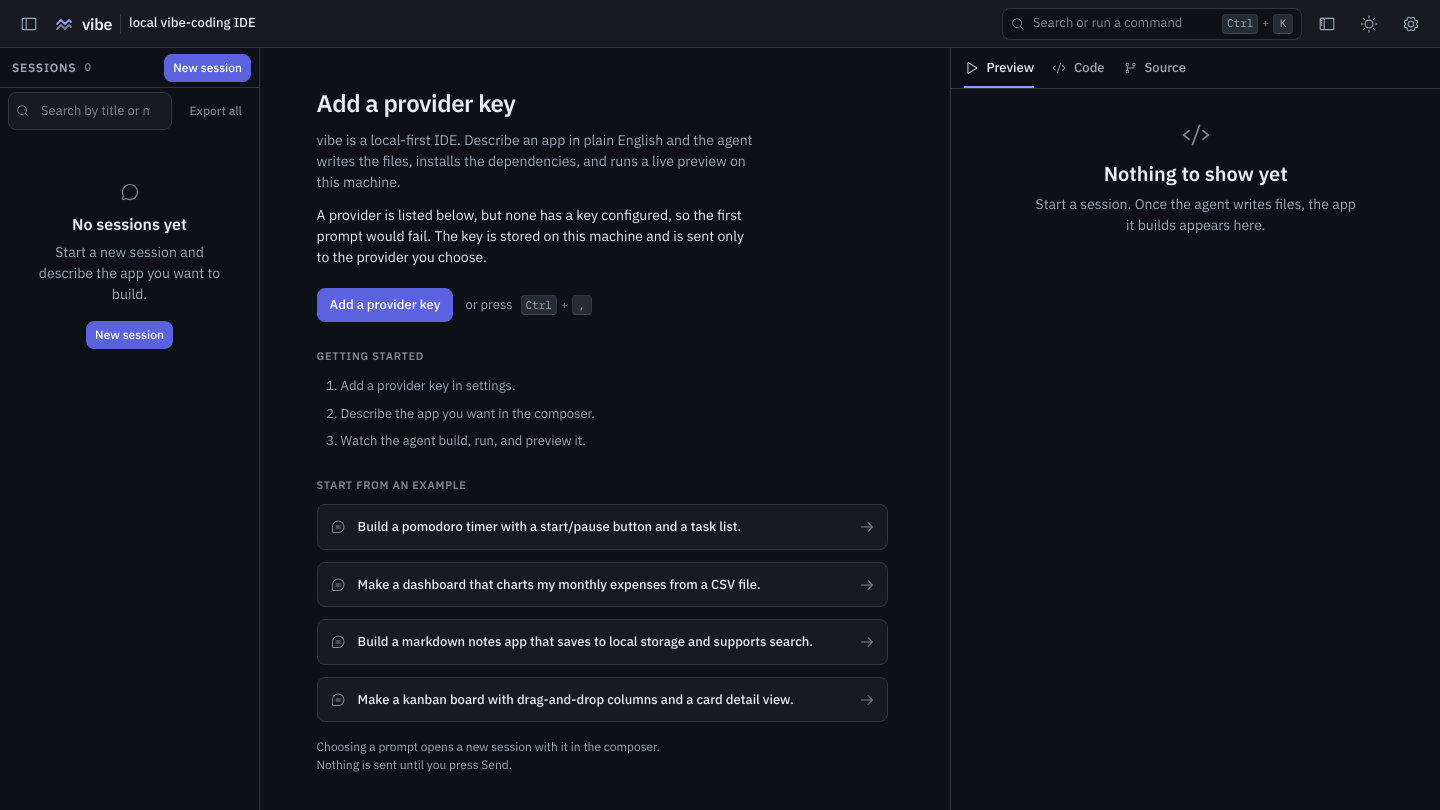
Test: the app first run › replaces the empty chat, then fills the composer when an example is clicked
Expected: the heading "Add a provider key" is shown, [317, 87, 516, 119]
Click the button "pomodoro".
click(602, 527)  # box [317, 504, 888, 550]
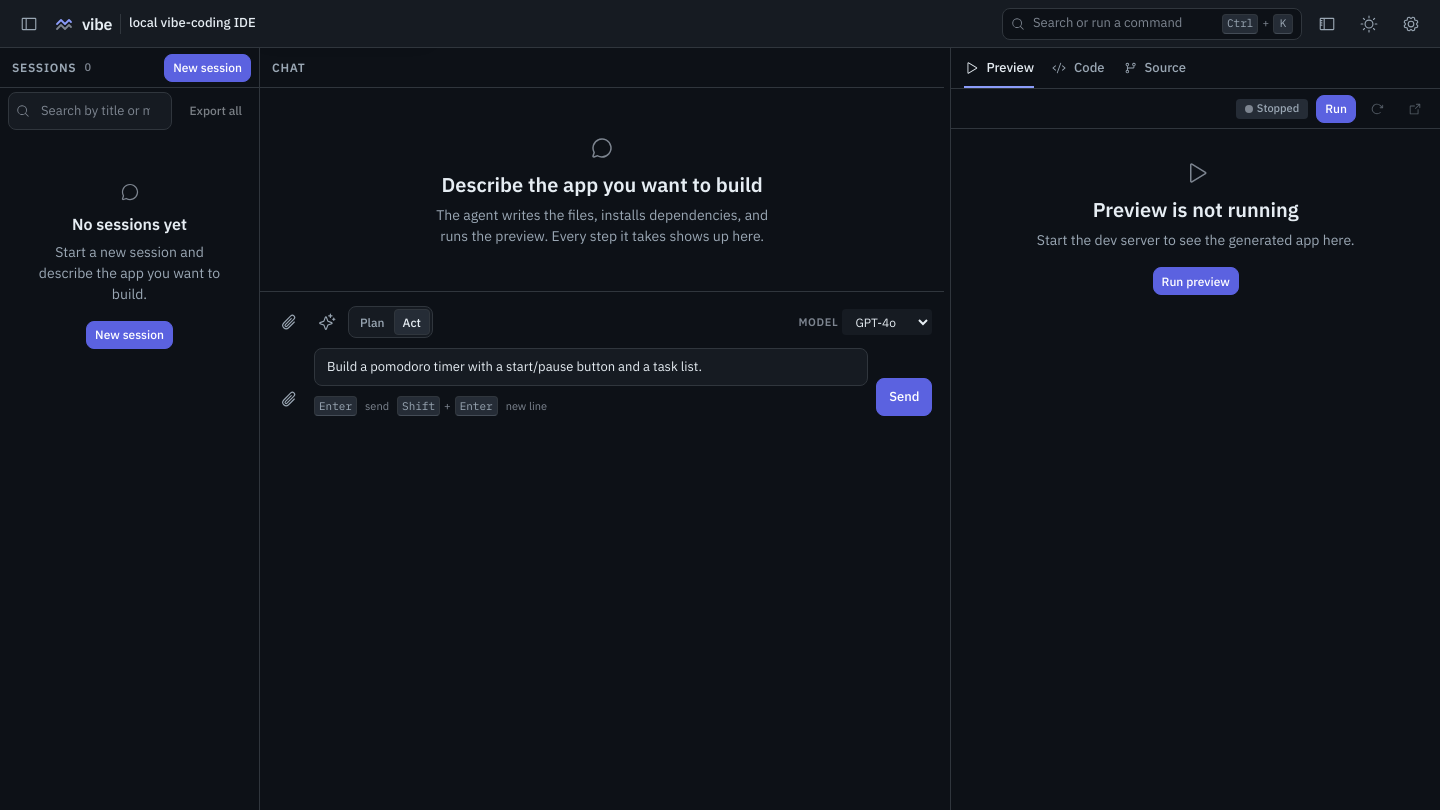
Now the text box holds "Build a pomodoro timer with a start/pause button and a task list.", box [314, 348, 868, 386]
